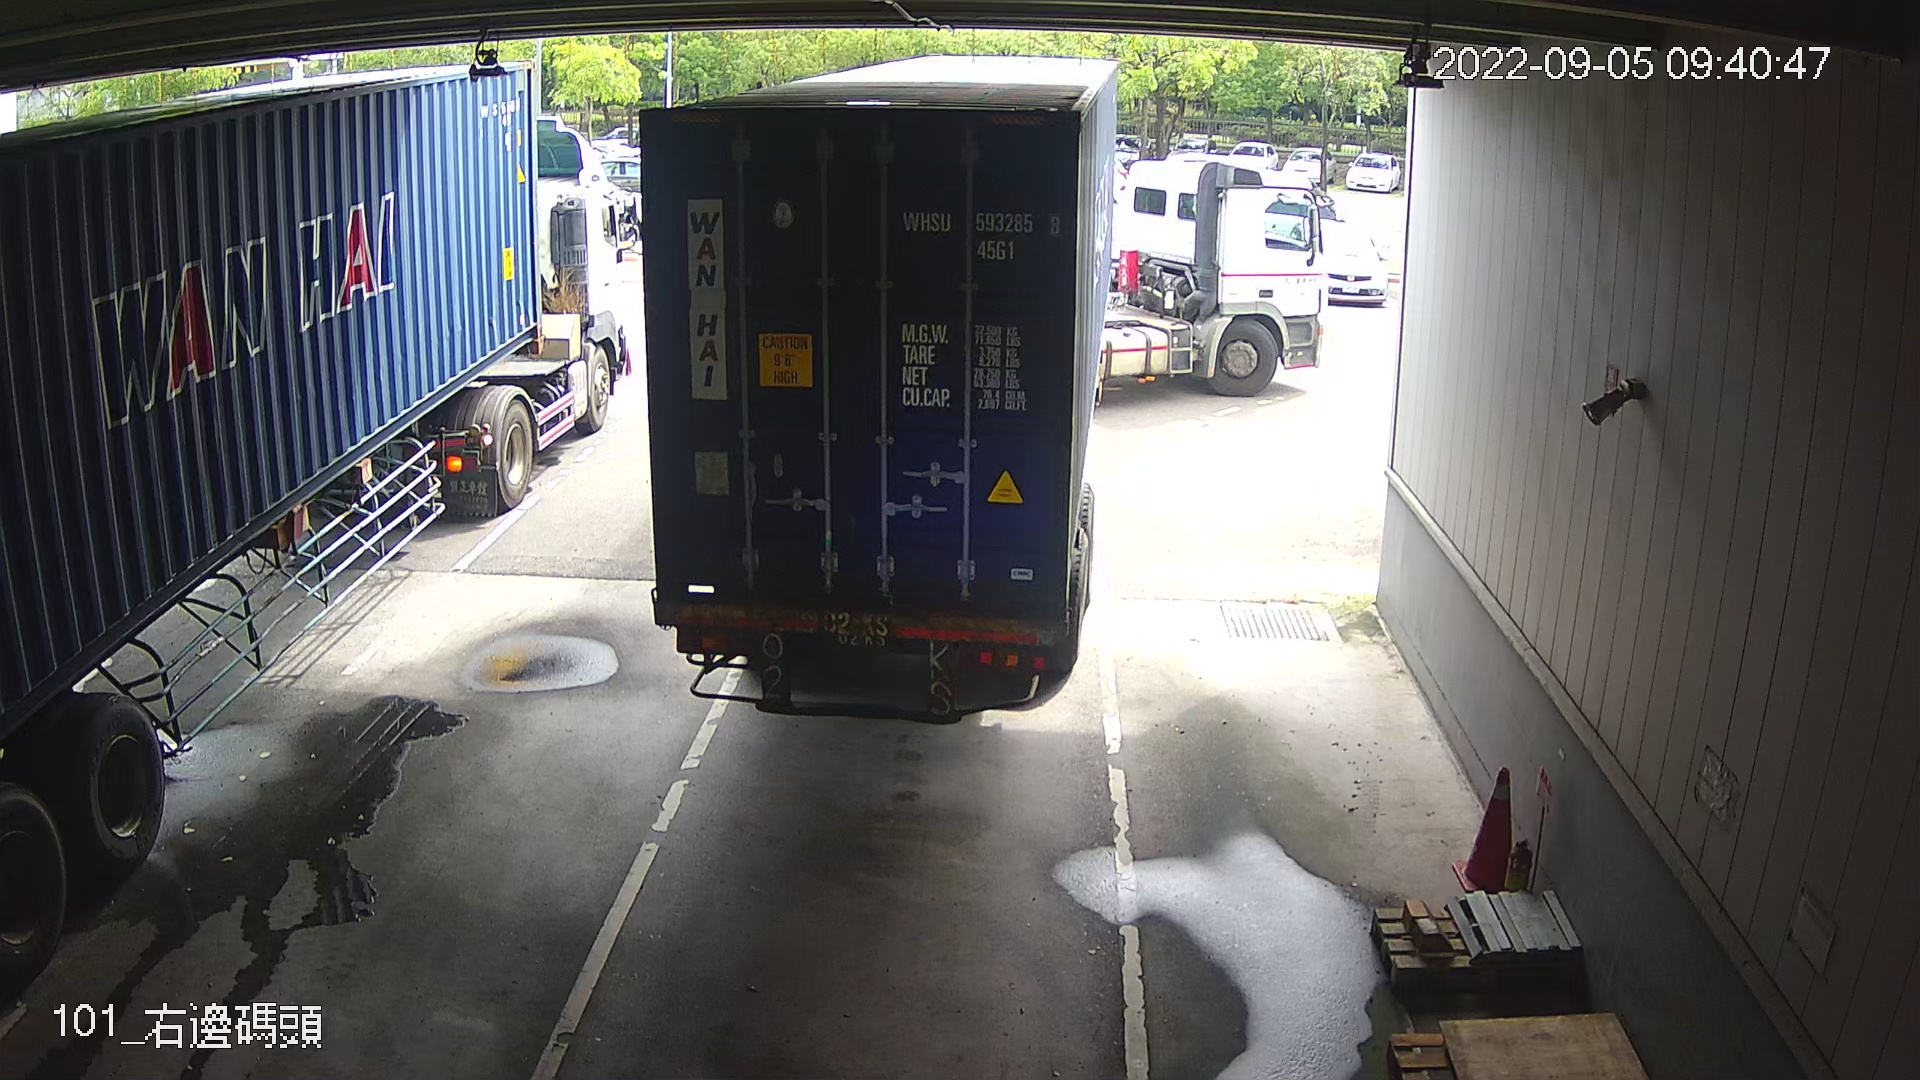container: (895, 196, 1069, 269)
